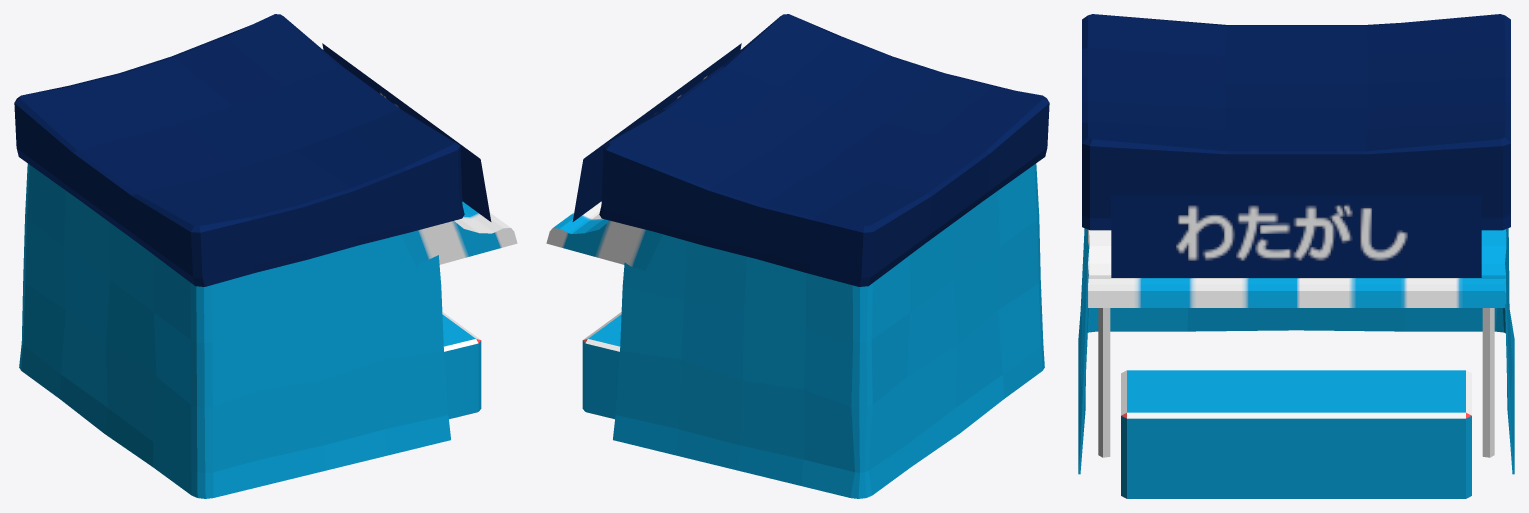
The model's file is rowyataiwatagasi_1.fbx.
The picture shows the model from 3 angles, left to right: view 1: azimuth 30°, elevation 25°; view 2: azimuth 150°, elevation 25°; view 3: azimuth 270°, elevation 25°; orthographic projection. The views are drawn at different scales.
Visible parts, largest first — view 1: 立方体, Cube, Cube.001, 立方体.001, 平面; view 2: 立方体, Cube, Cube.001, 立方体.001, 平面; view 3: Cube, 立方体.001, 平面, Cube.001, 立方体, 円柱.
Boxes of the visible parts, box(x1,y1,x2,y2) form: 立方体: box(19, 163, 450, 498); Cube: box(14, 14, 464, 286); Cube.001: box(401, 201, 517, 267); 立方体.001: box(442, 312, 481, 419); 平面: box(322, 43, 491, 221); 立方体: box(613, 163, 1044, 498); Cube: box(599, 14, 1049, 286); Cube.001: box(546, 201, 662, 270); 立方体.001: box(582, 312, 621, 419); 平面: box(572, 43, 741, 221); Cube: box(1082, 14, 1510, 230); 立方体.001: box(1121, 370, 1471, 498); 平面: box(1111, 194, 1481, 277); Cube.001: box(1088, 229, 1506, 307); 立方体: box(1078, 228, 1514, 474); 円柱: box(1098, 308, 1494, 457).
Bounding box in the file's own units: 133 × 114 × 132.
Materials: 2 (2 with a texture image).
